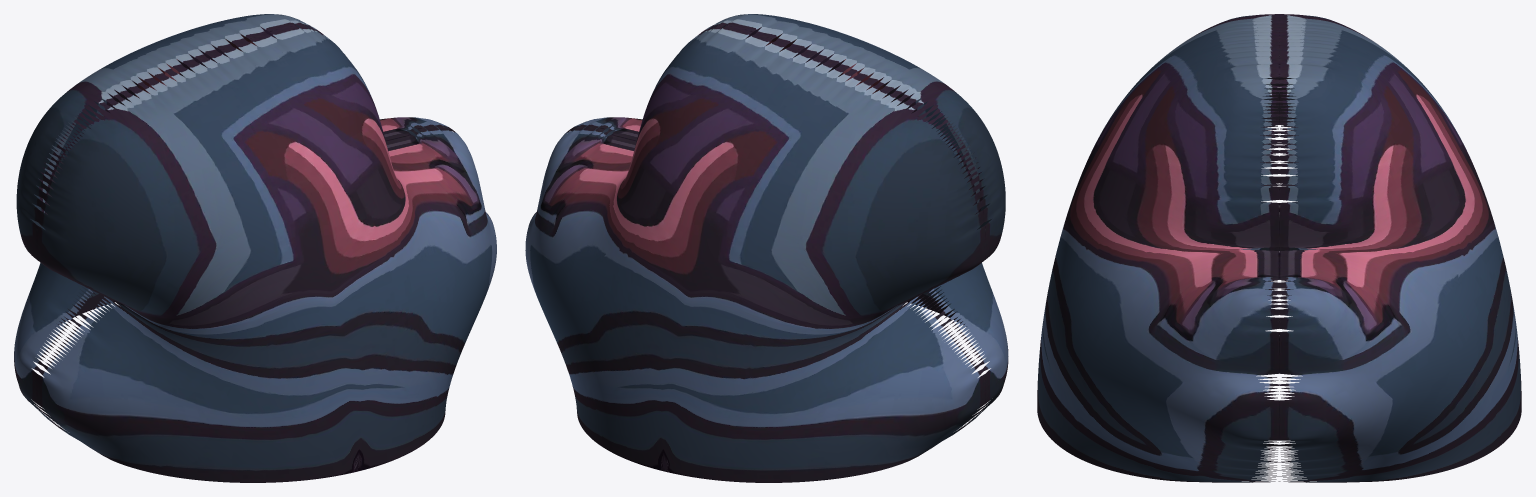
File: elbow_coupling.glb
3 views of the same model, side by side, from view 1: azimuth 30°, elevation 25°; view 2: azimuth 150°, elevation 25°; view 3: azimuth 270°, elevation 25° (orthographic). The views are drawn at different scales.
Visible parts, largest first — view 1: elbow_coupling; view 2: elbow_coupling; view 3: elbow_coupling.
Part boxes in pixels (left/top/right/bottom): elbow_coupling: left=14, top=14, right=496, bottom=482; elbow_coupling: left=525, top=14, right=1008, bottom=482; elbow_coupling: left=1037, top=14, right=1521, bottom=482.
Size of the model in its own units: 0.989 by 0.7443 by 0.9095.
1 material, 1 textured.
